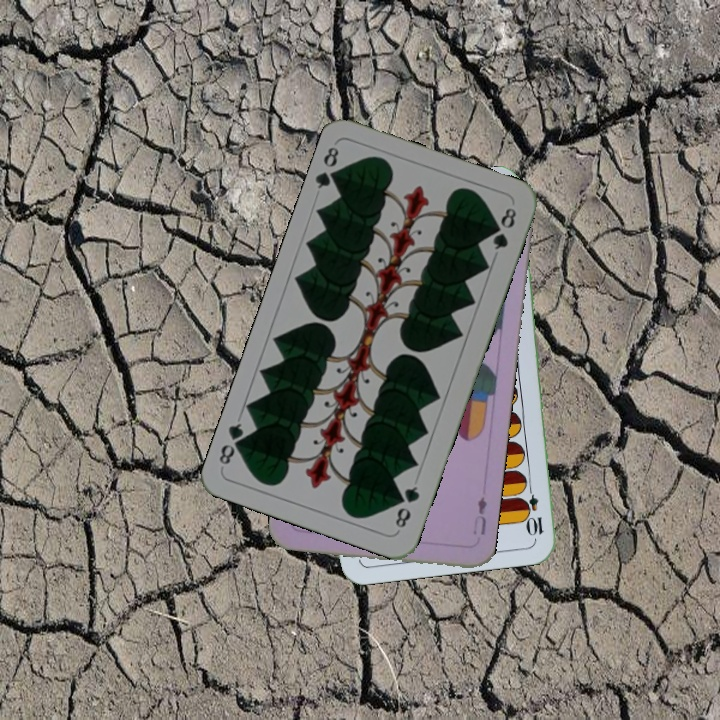E10: (522, 479, 546, 539)
EU: (469, 493, 489, 538)
G8: (311, 142, 345, 192), (391, 482, 422, 531)
